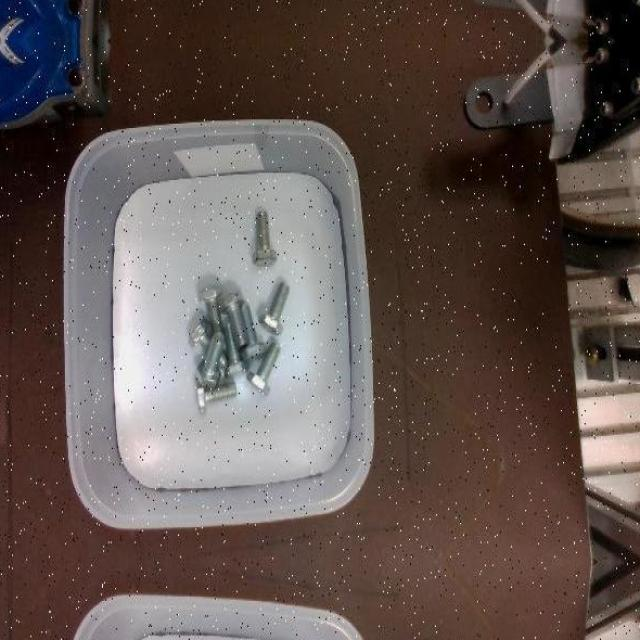screw: (247, 342, 282, 395), (258, 280, 291, 335), (219, 292, 249, 350), (195, 332, 226, 388), (253, 210, 279, 267)
